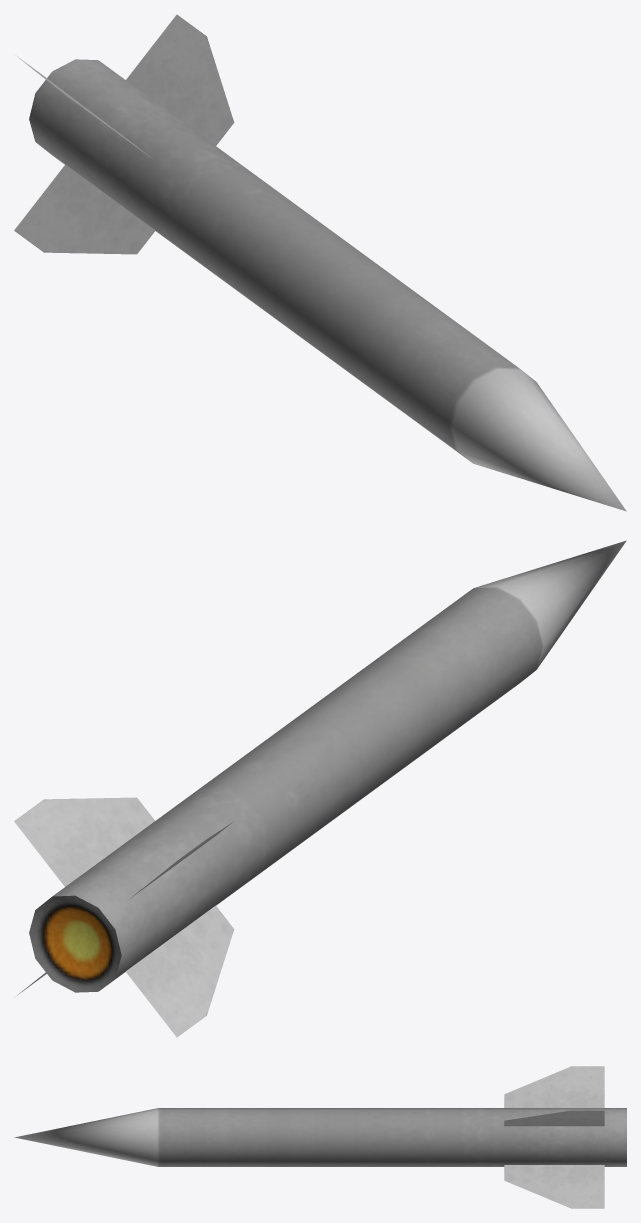
The model's file is MRLS Missile.fbx.
The picture shows the model from 3 angles, top to bottom: view 1: azimuth 30°, elevation 25°; view 2: azimuth 150°, elevation 25°; view 3: azimuth 270°, elevation 25°; orthographic projection. The views are drawn at different scales.
Parts seen in each view (by area): view 1: polySurface334; view 2: polySurface334; view 3: polySurface334.
Boxes of the visible parts, <box> form: polySurface334: <box>14,14,626,511</box>; polySurface334: <box>14,540,626,1037</box>; polySurface334: <box>14,1066,626,1208</box>.
Bounding box in the file's own units: 8.44 × 8.74 × 49.5.
1 material, 1 textured.
